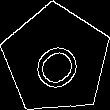O_NE: (24, 26, 89, 93)
